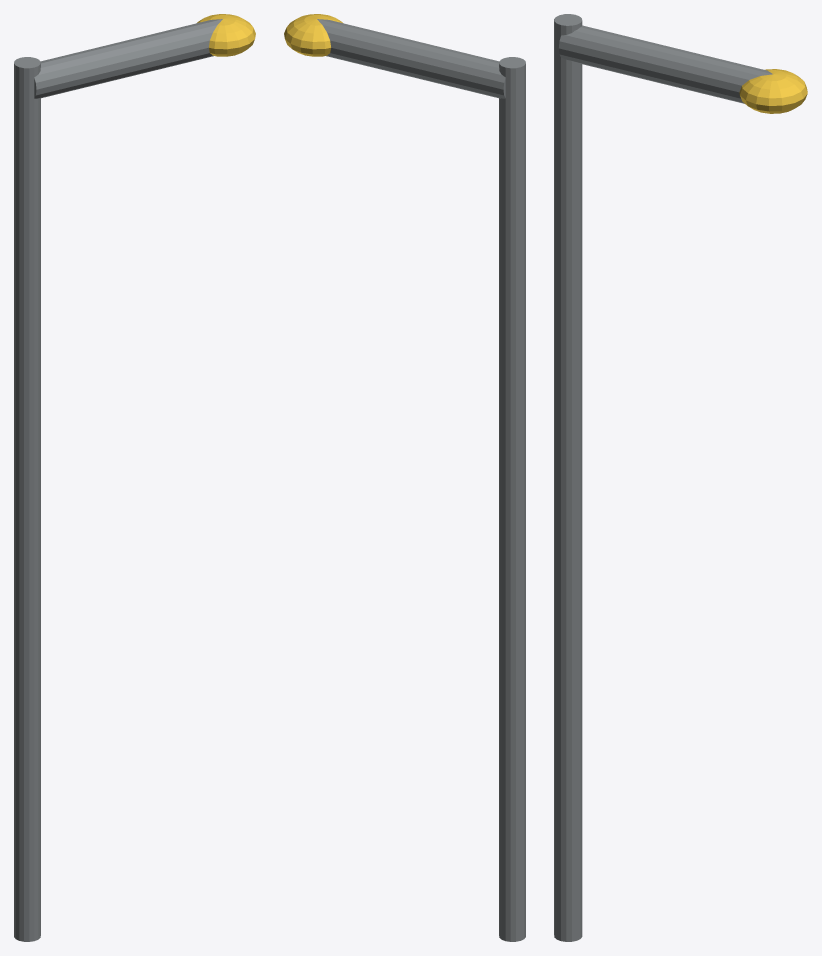
Rendered from Prop_Street_001.glb.
The picture shows the model from 3 angles, left to right: view 1: azimuth 30°, elevation 25°; view 2: azimuth 150°, elevation 25°; view 3: azimuth 330°, elevation 25°; orthographic projection. The views are drawn at different scales.
Visible parts, largest first — view 1: Prop_Street_001; view 2: Prop_Street_001; view 3: Prop_Street_001.
Boxes of the visible parts, x1,y1,x2,y2 form: Prop_Street_001: (14,14,255,941); Prop_Street_001: (284,14,525,941); Prop_Street_001: (554,14,807,941).
Size of the model in its own units: 1.81 by 6.4 by 0.44.
